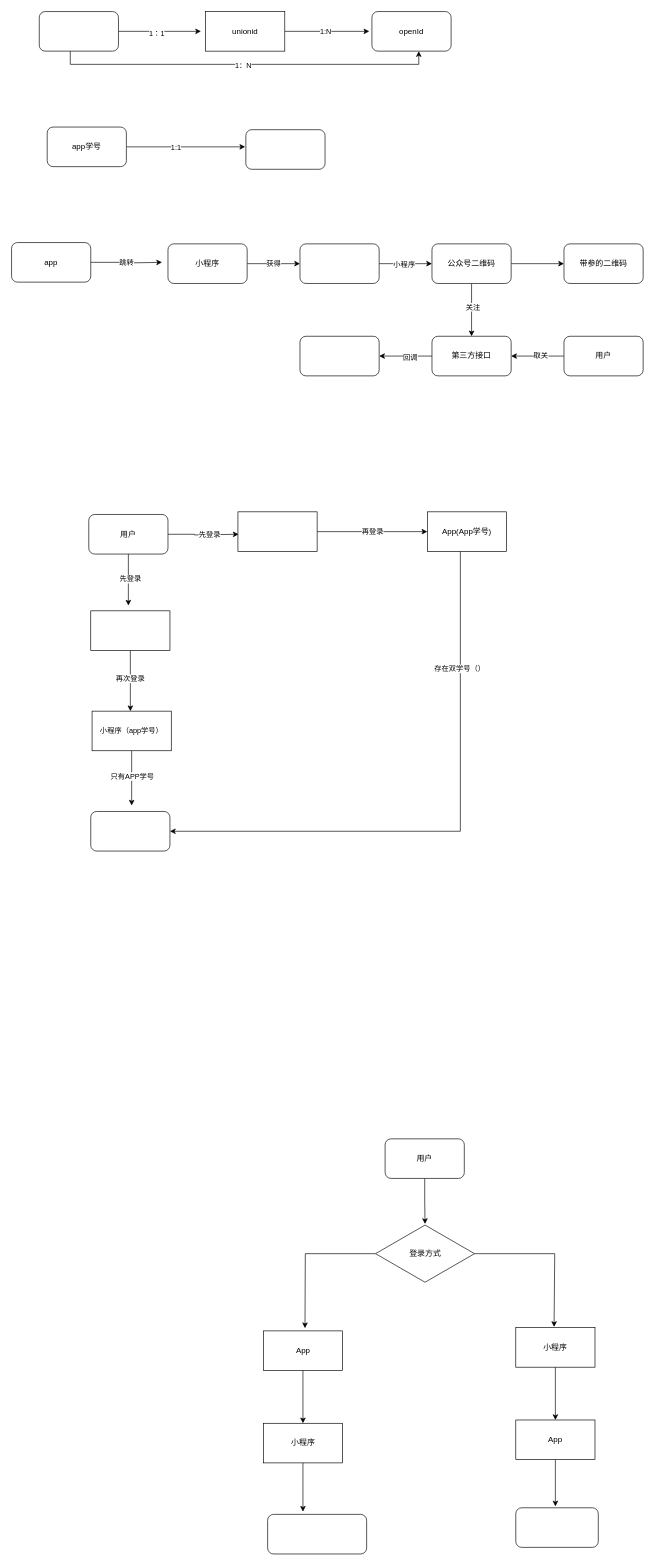
Some shapes in this 655 by 1566 pixel diagram are drawn without their labels. Here are the shapes that lost their labels. From the top down, the centre of each, then its label:
the point at 78,31: 微信学号
the point at 285,149: 手机号
the point at 339,263: 学号SNO、小程序的UnionId
the point at 339,356: 绑定三者关系
the point at 277,531: 小程序（微信学号）
the point at 130,630: App（app学号）
the point at 130,831: 结束
the point at 317,1534: 只有App学号(一条数据) bind_type:1
the point at 556,1527: 存在wx学号、app学号 （两条数据） bind_type:1 ；2
